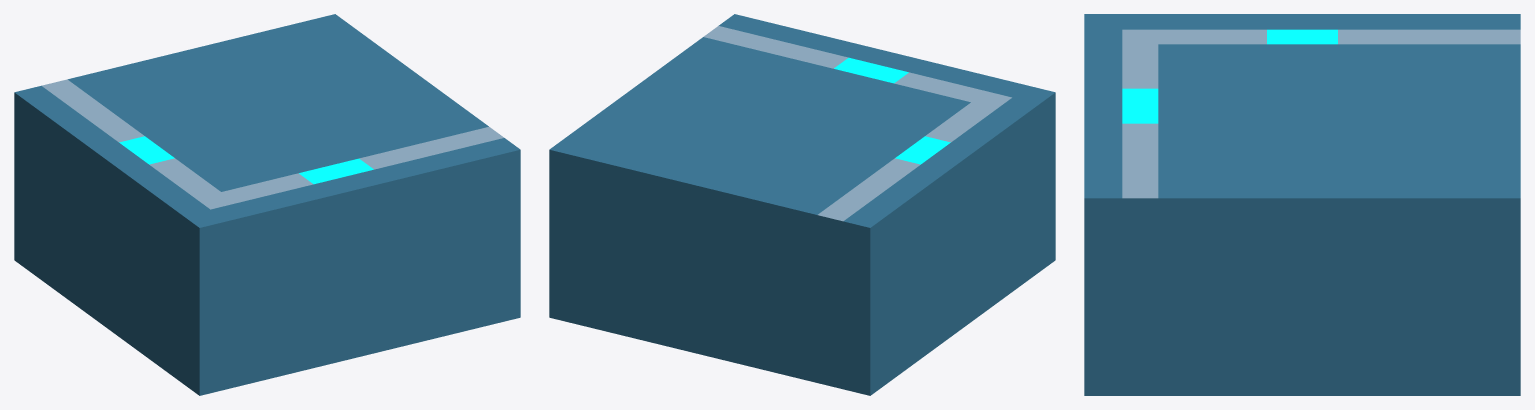
The model's file is model_tile_border_corner.fbx.
3 views of the same model, side by side, from view 1: azimuth 30°, elevation 25°; view 2: azimuth 150°, elevation 25°; view 3: azimuth 270°, elevation 25° (orthographic). The views are drawn at different scales.
Visible parts, largest first — view 1: tile_border_corner; view 2: tile_border_corner; view 3: tile_border_corner.
Boxes of the visible parts, <box> form: tile_border_corner: <box>14,14,520,395</box>; tile_border_corner: <box>549,14,1055,395</box>; tile_border_corner: <box>1084,14,1520,395</box>.
Bounding box in the file's own units: 60.96 × 30.48 × 60.96.
